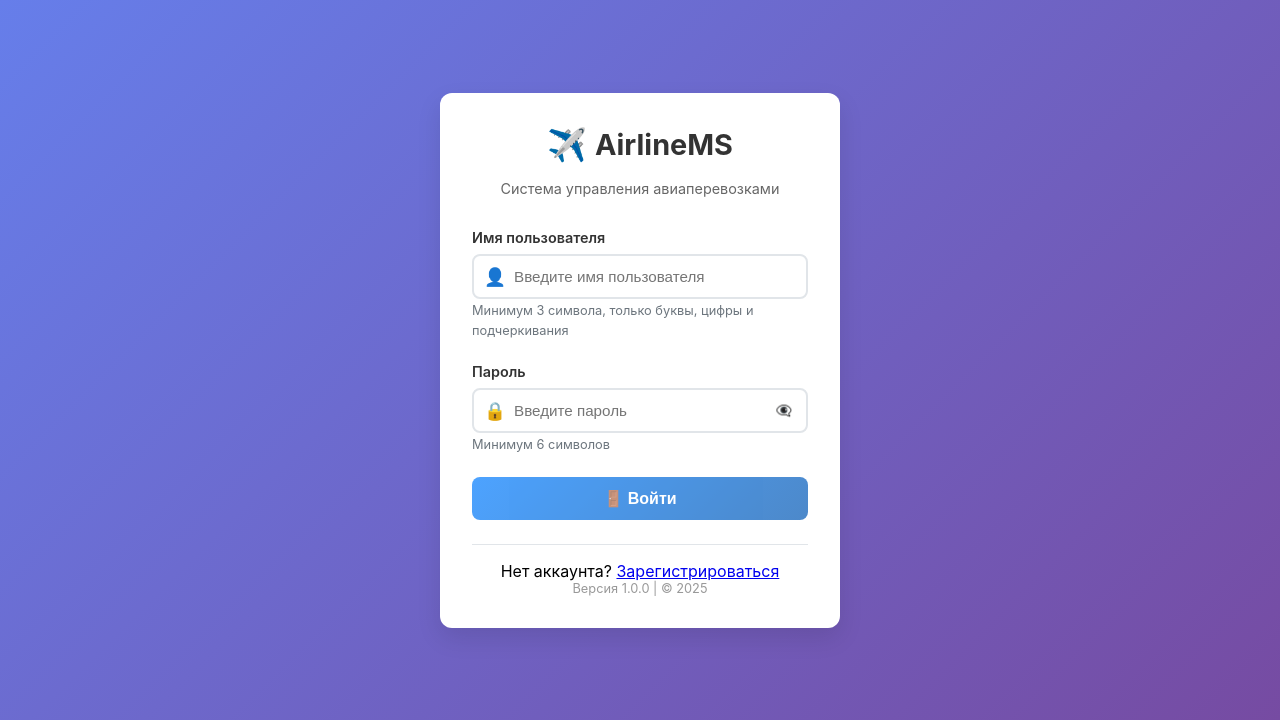
Test: Authentication › Login Component › should handle login error
The width and height of the screenshot is (1280, 720).
Step 1. Type "testuser" into the field labelled "Имя пользователя" → (640, 276), box [472,254,808,298]
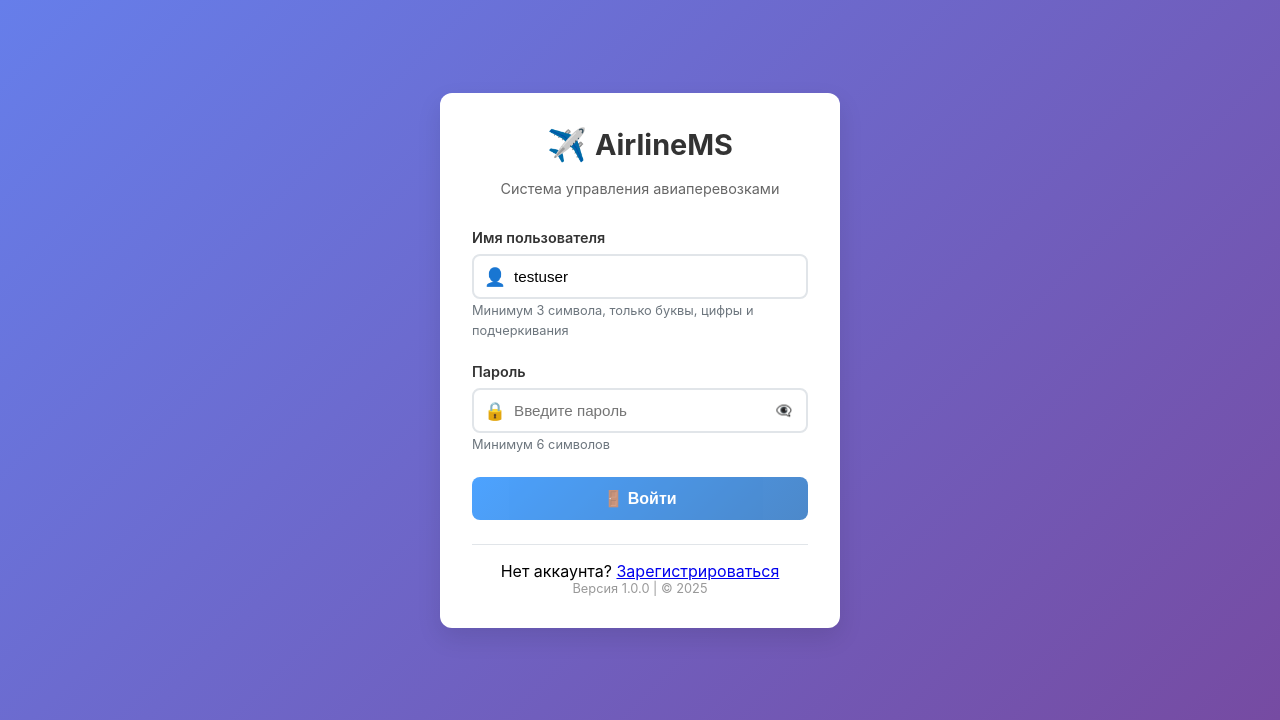
Step 2. Type "wrongpassword" into the password field with placeholder "Введите пароль" → (640, 410), box [472,388,808,432]
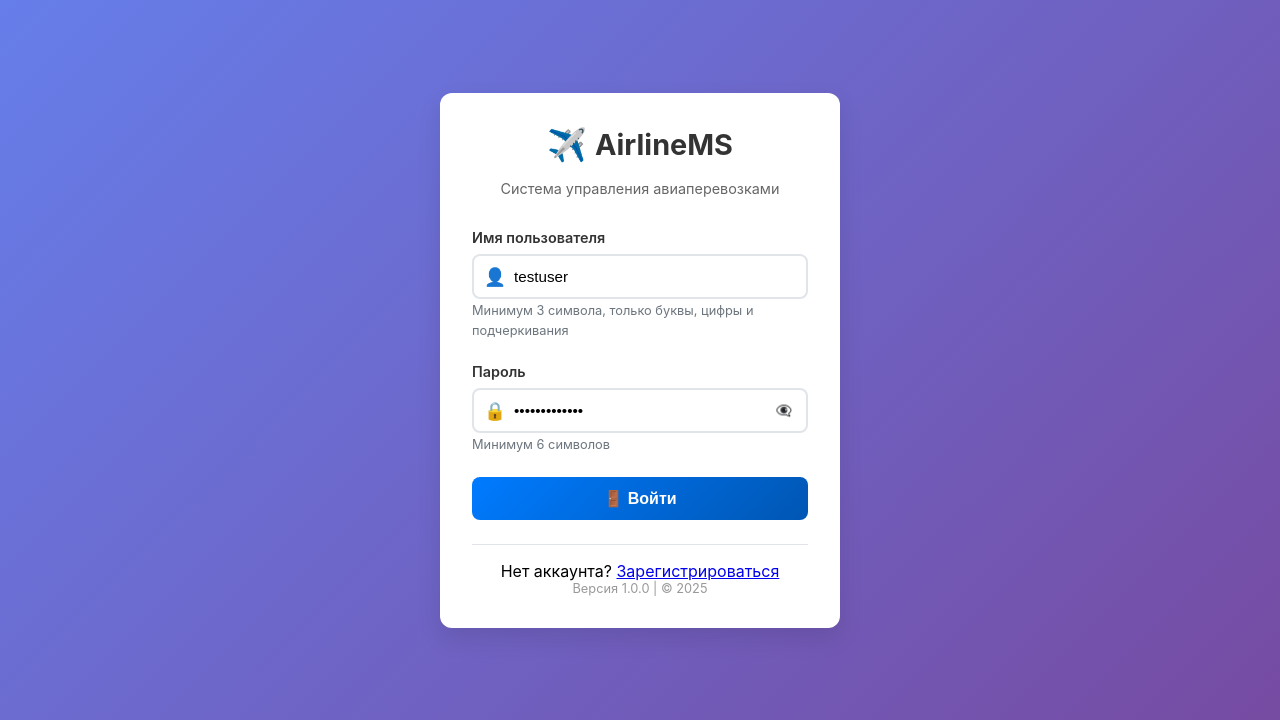
Step 3. Click the button with aria-label "войти в систему" → (640, 498), box [472,476,808,520]
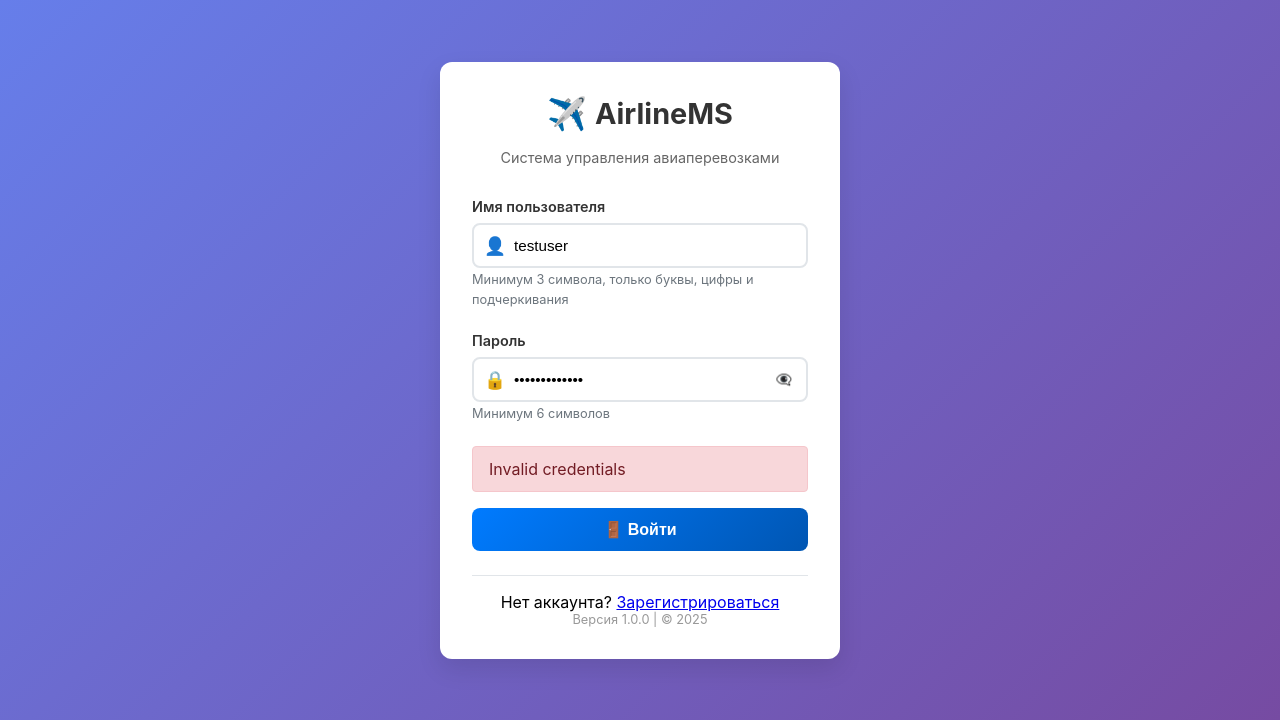
Expected: the text "Invalid credentials" is shown, [472,446,808,492]
